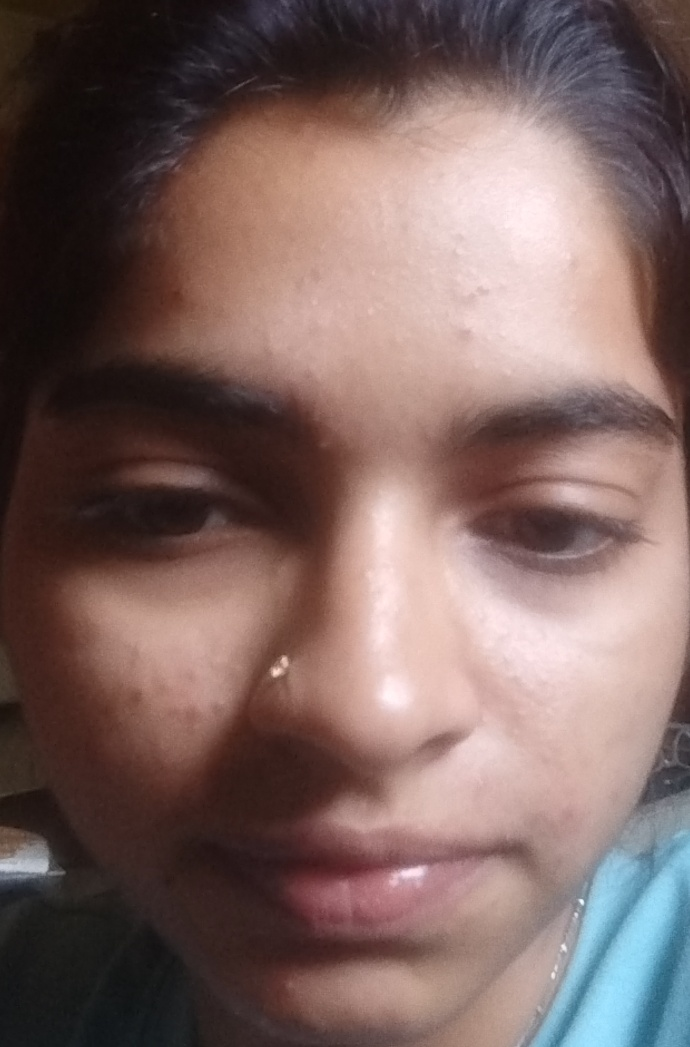closed_comedone: (454, 275, 514, 313), (445, 308, 485, 353)
papule: (117, 611, 177, 666), (167, 687, 229, 740), (295, 303, 349, 351), (120, 666, 155, 726)
